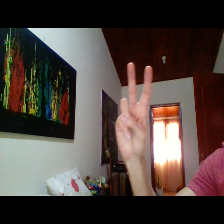KP: (109, 56, 156, 160)
